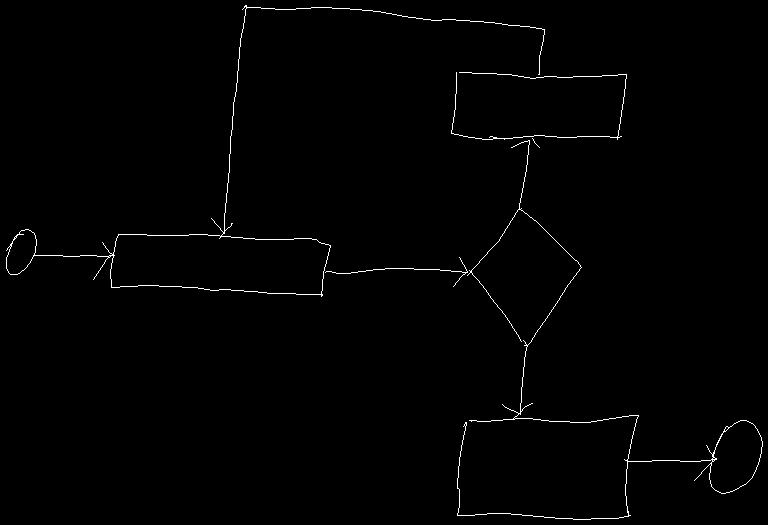arrow: (211, 5, 544, 238), (325, 257, 467, 286), (624, 445, 716, 480), (34, 242, 114, 279), (502, 345, 532, 418), (511, 138, 539, 209)
connection: (709, 420, 762, 493), (6, 229, 36, 274)
decision: (467, 208, 581, 345)
process: (457, 415, 638, 519), (110, 234, 330, 296), (451, 72, 626, 139)
